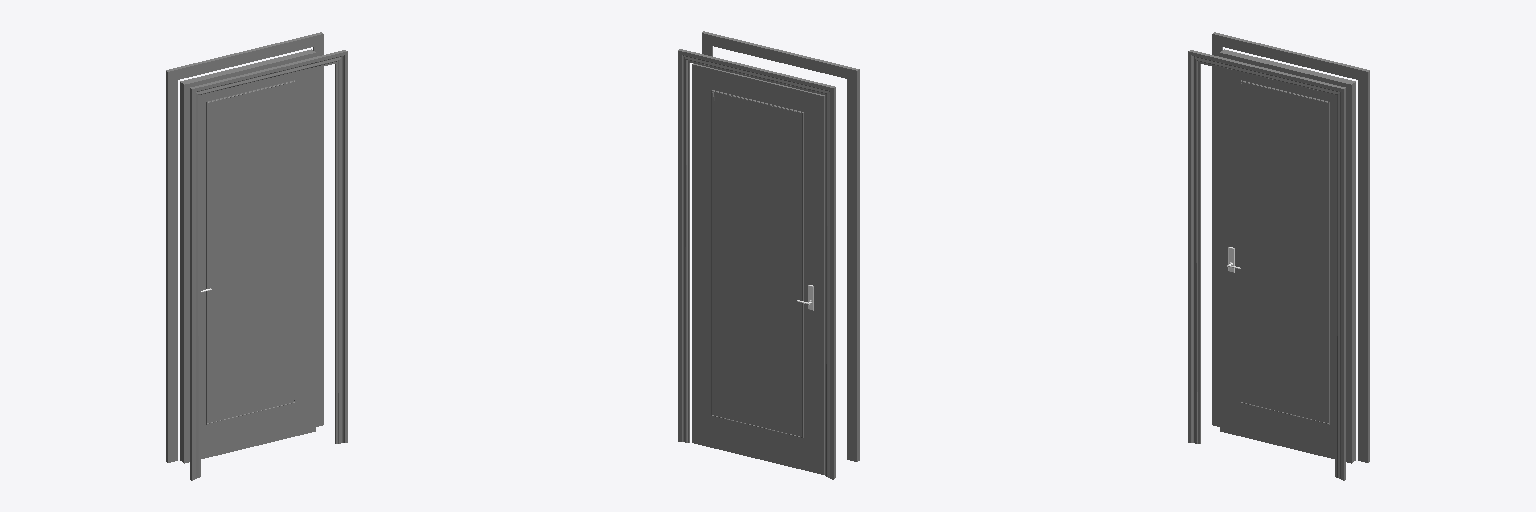
The model's file is door.obj.
The picture shows the model from 3 angles: view 1: azimuth 30°, elevation 25°; view 2: azimuth 150°, elevation 25°; view 3: azimuth 330°, elevation 25°; orthographic projection.
Parts seen in each view (by area): view 1: ?????_01, ????1_01; view 2: ?????_01, ????1_01; view 3: ?????_01, ????1_01.
Part boxes in pixels (x1,y1,x2,y2): ?????_01: (166,32,347,480); ????1_01: (180,49,315,463); ?????_01: (678,31,859,479); ????1_01: (692,63,824,474); ?????_01: (1188,32,1369,480); ????1_01: (1220,49,1355,463).
Bounding box in the file's own units: 1000 × 2400 × 305.